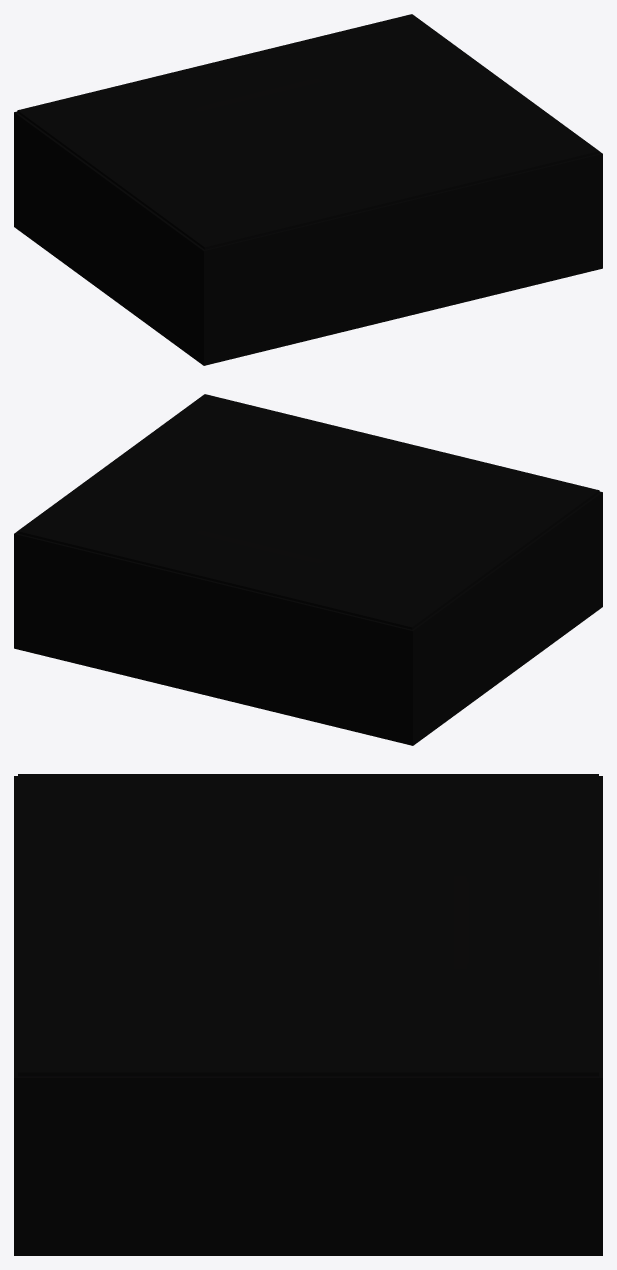
File: arcade3.glb
3 renders of one model, top to bottom at view 1: azimuth 30°, elevation 25°; view 2: azimuth 150°, elevation 25°; view 3: azimuth 270°, elevation 25°, orthographic. The views are drawn at different scales.
Visible parts, largest first — view 1: walls_baked; view 2: walls_baked; view 3: walls_baked.
Part boxes in pixels (bbox=[...]): walls_baked: bbox=[14, 14, 602, 365]; walls_baked: bbox=[14, 394, 602, 745]; walls_baked: bbox=[14, 774, 602, 1255].
Size of the model in its own units: 18.2 by 5.11 by 15.
Materials: 43 (5 with a texture image).
